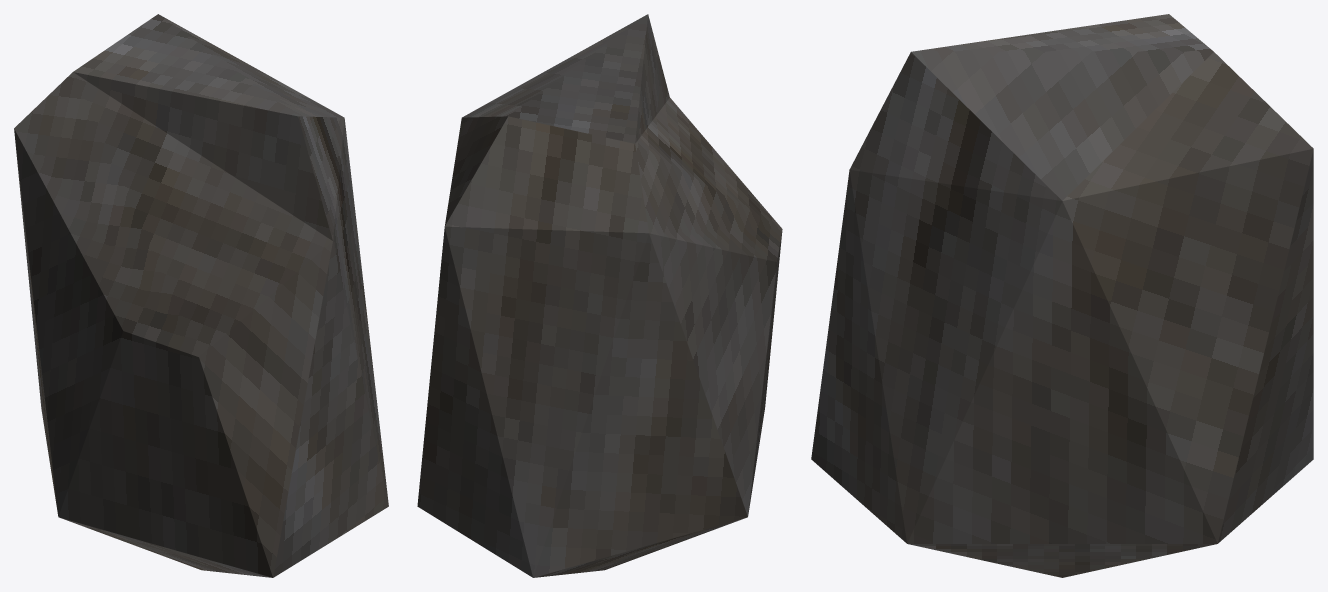
The model's file is rock3.glb.
The picture shows the model from 3 angles, left to right: view 1: azimuth 30°, elevation 25°; view 2: azimuth 150°, elevation 25°; view 3: azimuth 270°, elevation 25°; orthographic projection. The views are drawn at different scales.
Visible parts, largest first — view 1: Rock3; view 2: Rock3; view 3: Rock3.
Boxes of the visible parts, x1=… form: Rock3: x1=14, y1=14, x2=388, y2=577; Rock3: x1=417, y1=14, x2=782, y2=577; Rock3: x1=811, y1=14, x2=1313, y2=577.
Bounding box in the file's own units: 1.21 × 2.02 × 1.7.
Materials: 1 (1 with a texture image).
